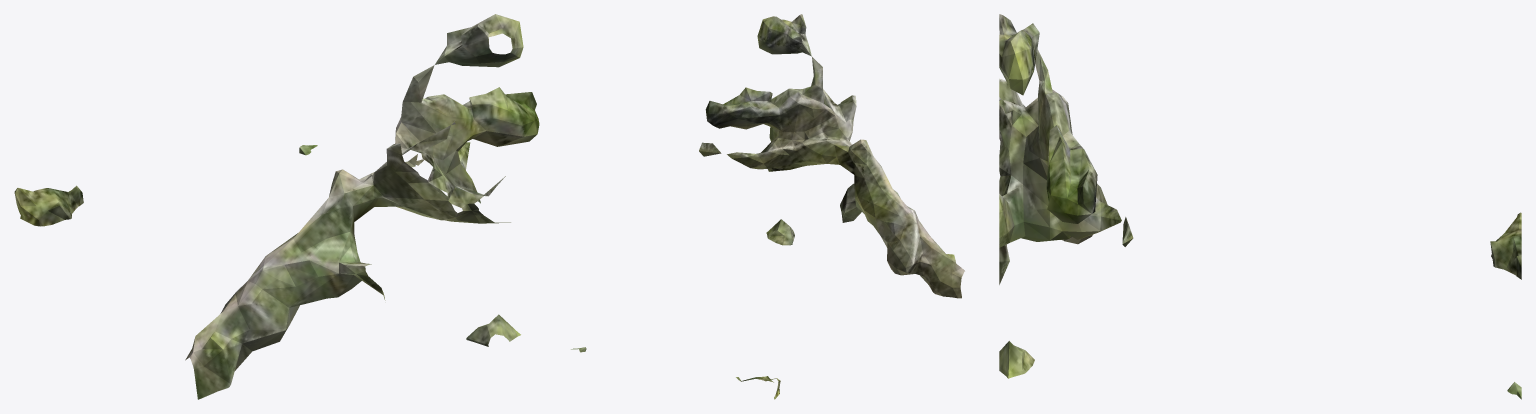
3 views of the same model, side by side, from view 1: azimuth 30°, elevation 25°; view 2: azimuth 150°, elevation 25°; view 3: azimuth 270°, elevation 25° (orthographic). The views are drawn at different scales.
Bounding box in the file's own units: 4.94 × 4.24 × 5.9.
Materials: 2 (2 with a texture image).
